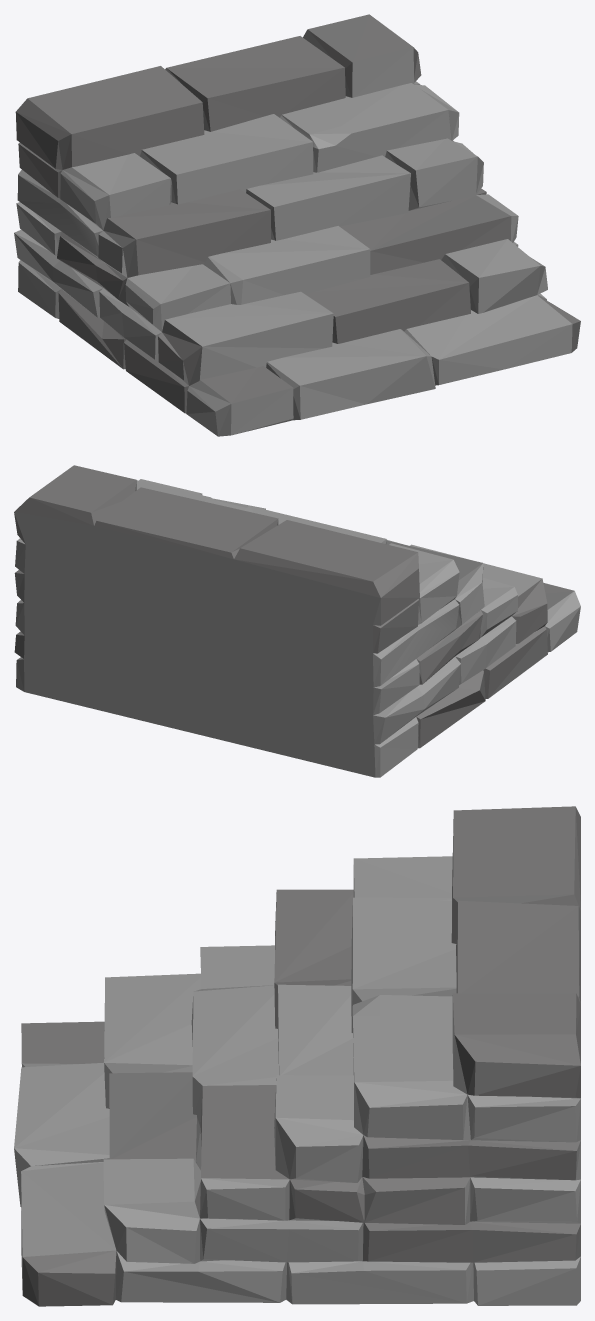
Rendered from _STAIRS_01_1.fbx.
The picture shows the model from 3 angles, top to bottom: view 1: azimuth 30°, elevation 25°; view 2: azimuth 150°, elevation 25°; view 3: azimuth 270°, elevation 25°; orthographic projection. The views are drawn at different scales.
Parts seen in each view (by area): view 1: STAIRS_01_1; view 2: STAIRS_01_1; view 3: STAIRS_01_1.
Part boxes in pixels (x1=…): STAIRS_01_1: x1=14, y1=14, x2=580, y2=436; STAIRS_01_1: x1=14, y1=465, x2=580, y2=777; STAIRS_01_1: x1=14, y1=806, x2=580, y2=1306.
Bounding box in the file's own units: 107 × 53.1 × 103.
